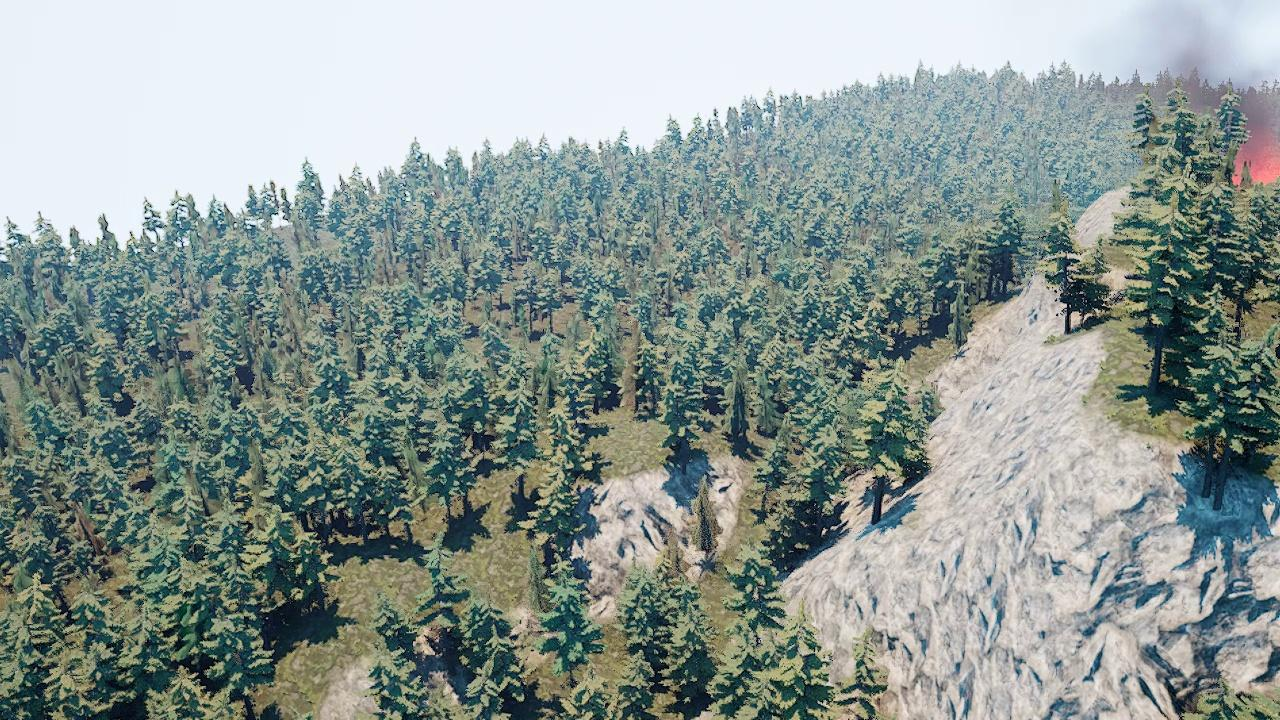fire: (1233, 149, 1280, 191)
smoke: (1126, 0, 1273, 167)
